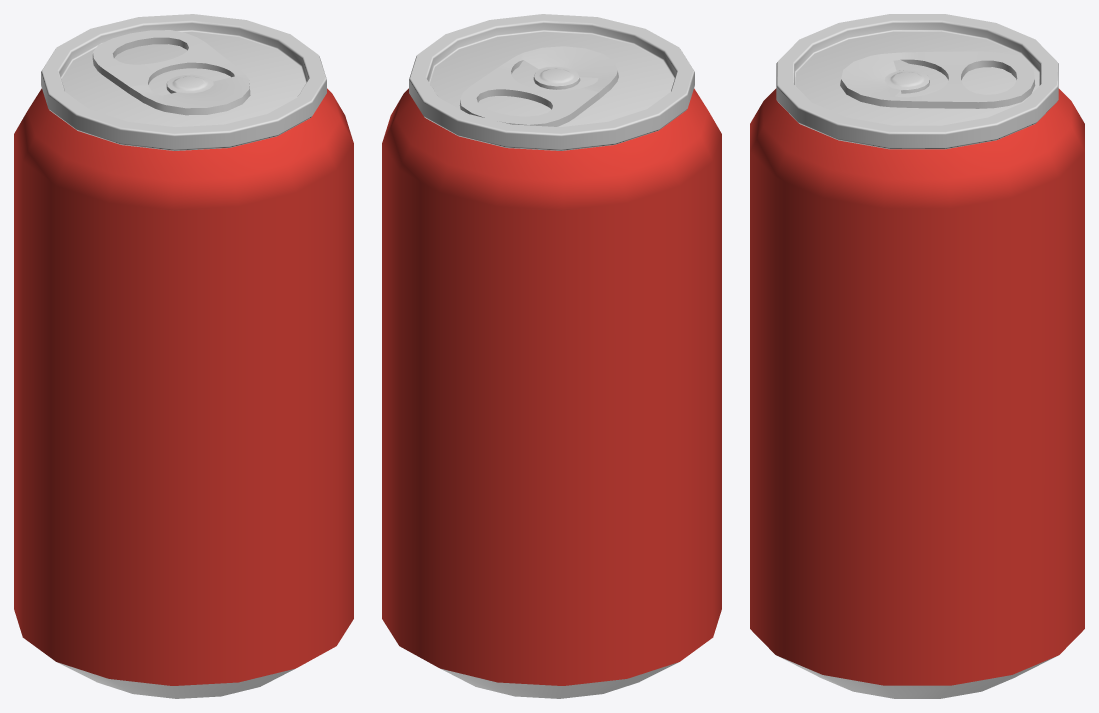
File: Latalow.fbx
3 views of the same model, side by side, from view 1: azimuth 30°, elevation 25°; view 2: azimuth 150°, elevation 25°; view 3: azimuth 270°, elevation 25° (orthographic).
Visible parts, largest first — view 1: lata_lp.001, lata_lp, carica_lp; view 2: lata_lp.001, lata_lp, carica_lp; view 3: lata_lp.001, lata_lp, carica_lp.
Part boxes in pixels (box(x1,y1,x2,y2)): lata_lp.001: box(14, 88, 353, 685); lata_lp: box(41, 14, 326, 698); carica_lp: box(92, 30, 250, 115); lata_lp.001: box(382, 88, 721, 685); lata_lp: box(409, 14, 694, 698); carica_lp: box(459, 46, 618, 126); lata_lp.001: box(750, 88, 1084, 685); lata_lp: box(776, 14, 1058, 698); carica_lp: box(840, 51, 1035, 108).
Size of the model in its own units: 138 by 262 by 138.
